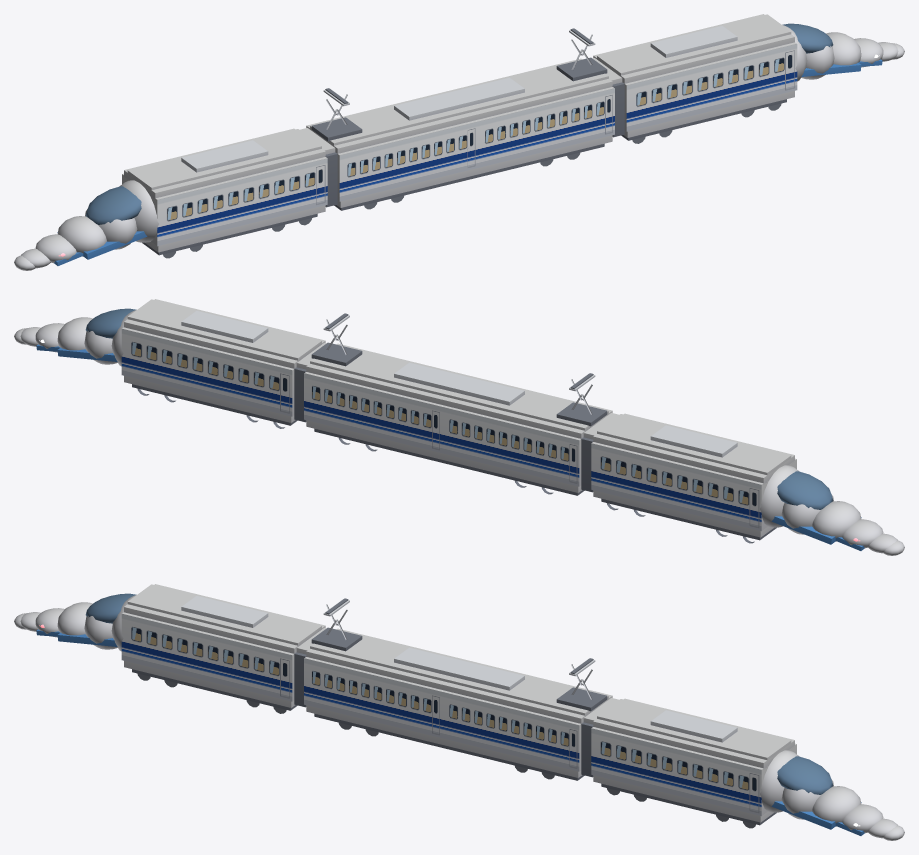
File: anime_shinkansen.glb
3 renders of one model, top to bottom at view 1: azimuth 30°, elevation 25°; view 2: azimuth 150°, elevation 25°; view 3: azimuth 330°, elevation 25°, orthographic.
Visible parts, largest first — view 1: anime_shinkansen; view 2: anime_shinkansen; view 3: anime_shinkansen.
Part boxes in pixels (left/top/right/bottom): anime_shinkansen: left=14, top=14, right=904, bottom=270; anime_shinkansen: left=14, top=299, right=904, bottom=555; anime_shinkansen: left=14, top=584, right=904, bottom=840.
Size of the model in its own units: 29.68 by 3.5 by 2.1.
Materials: 8 (1 with a texture image).
